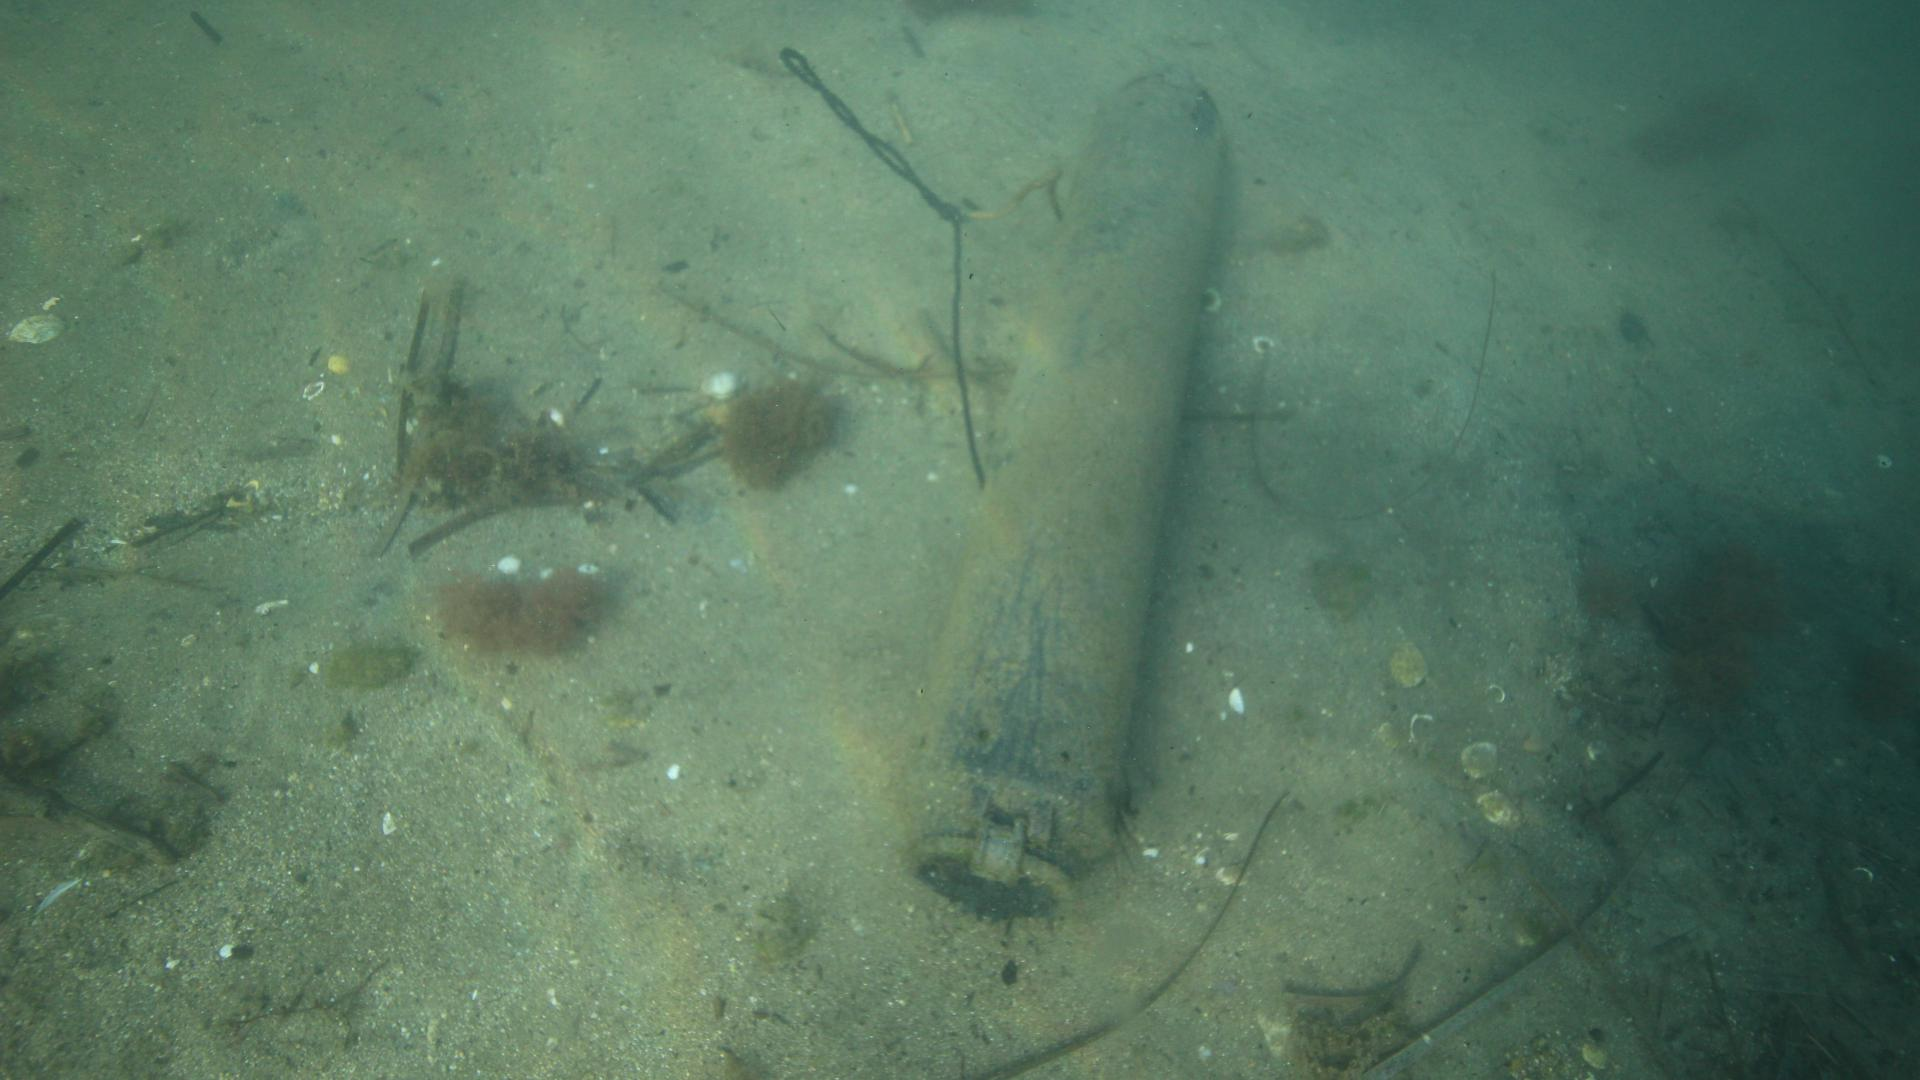eel fish trap: (902, 69, 1228, 926)
rope: (775, 44, 1067, 493)
